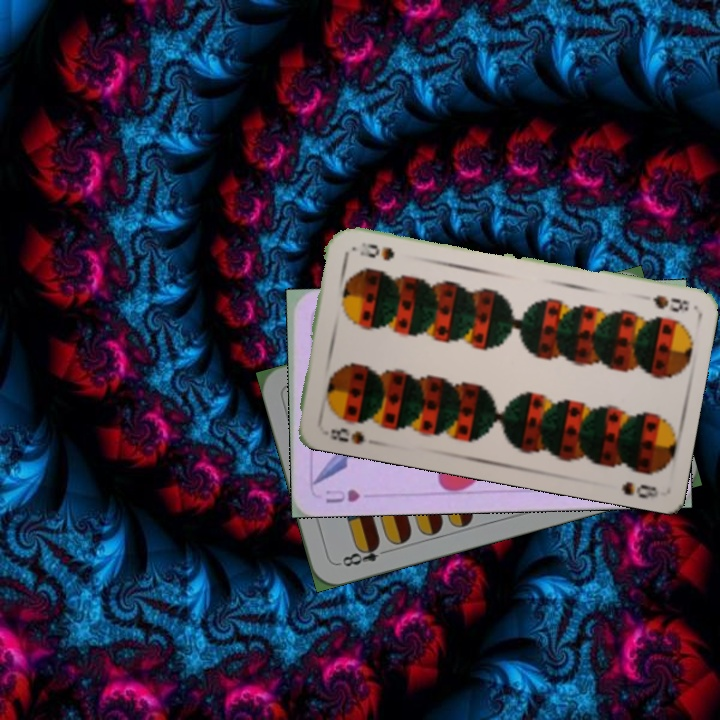E8: (334, 538, 392, 570)
HU: (321, 486, 362, 505)
S8: (648, 291, 692, 315), (325, 423, 367, 448)
